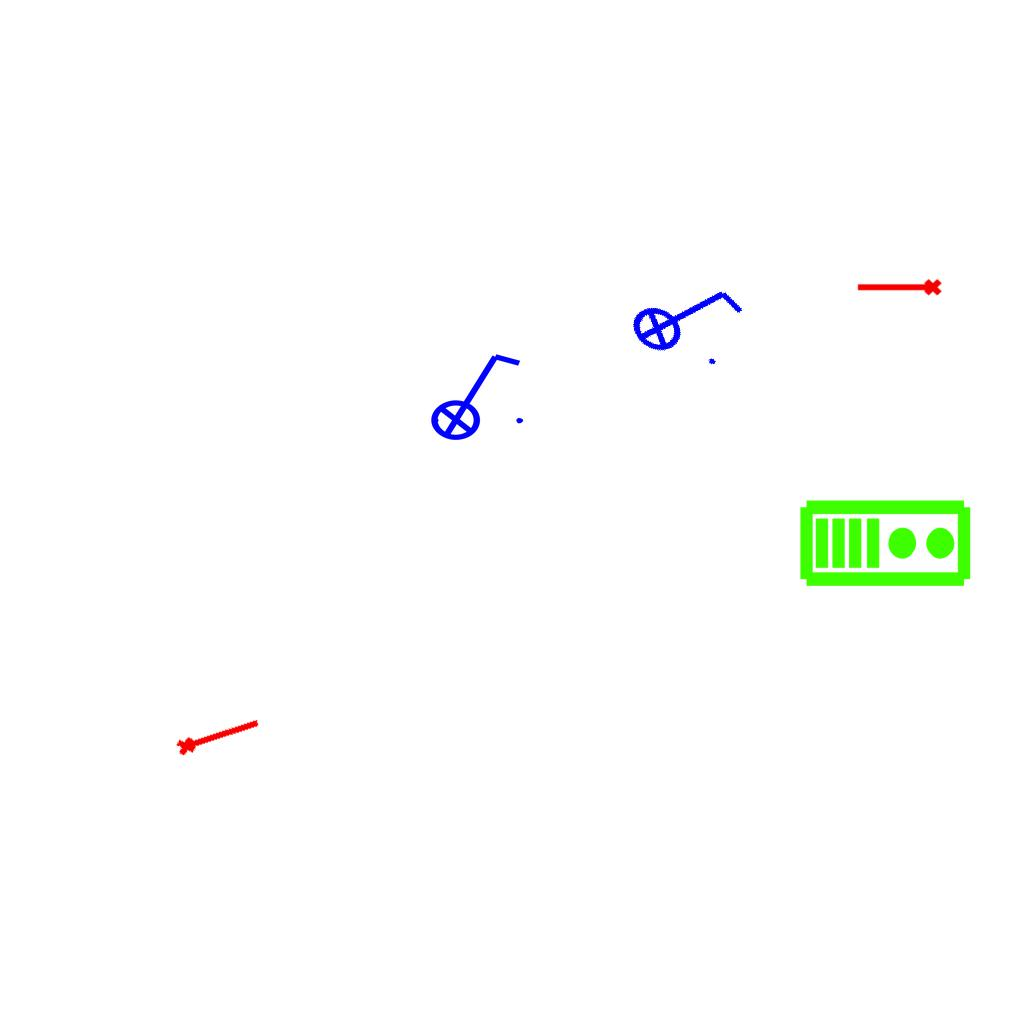ASR_Ansaugoeffnung: (172, 709, 264, 760), (855, 277, 943, 300)
Ausschalter_beleuchtet: (612, 245, 758, 385), (417, 346, 529, 442)
Gegensprechanlage_mit_Video: (798, 494, 974, 589)
